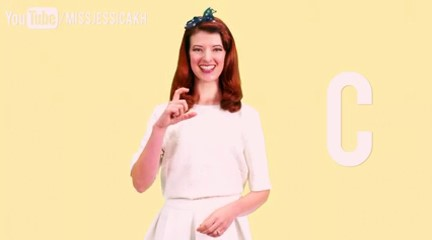C: (154, 83, 206, 131)
